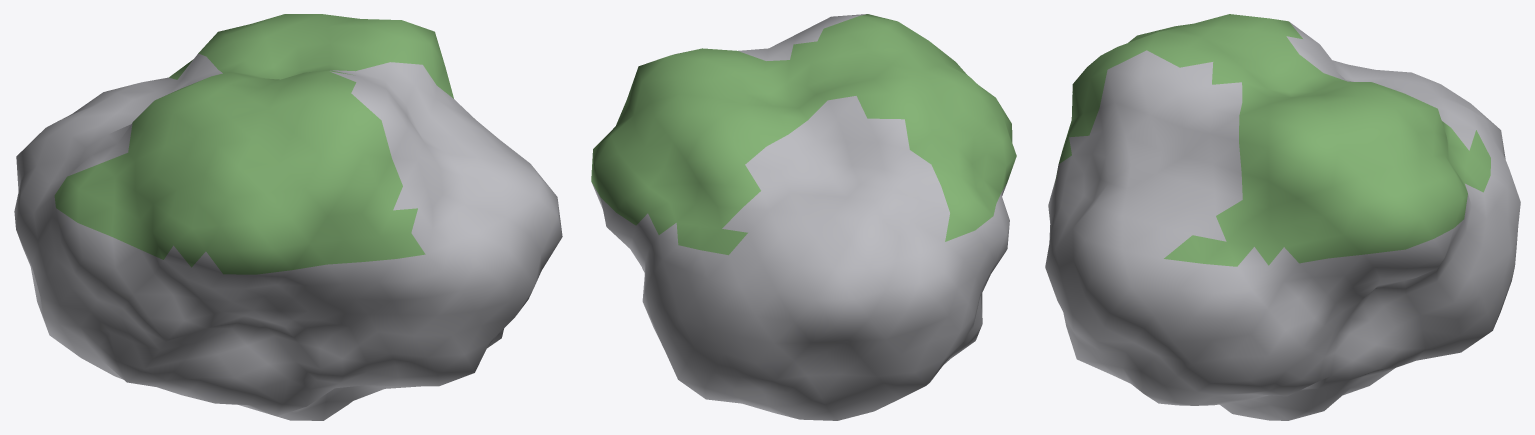
Rendered from SM_Rock_04_Mossy.fbx.
The picture shows the model from 3 angles, left to right: view 1: azimuth 30°, elevation 25°; view 2: azimuth 150°, elevation 25°; view 3: azimuth 270°, elevation 25°; orthographic projection. The views are drawn at different scales.
Parts seen in each view (by area): view 1: SM_Rock_04_Mossy; view 2: SM_Rock_04_Mossy; view 3: SM_Rock_04_Mossy.
Part boxes in pixels (x1,y1,x2,y2): SM_Rock_04_Mossy: (14, 14, 562, 420); SM_Rock_04_Mossy: (591, 14, 1016, 420); SM_Rock_04_Mossy: (1045, 14, 1520, 420).
Bounding box in the file's own units: 200 × 166 × 199.
